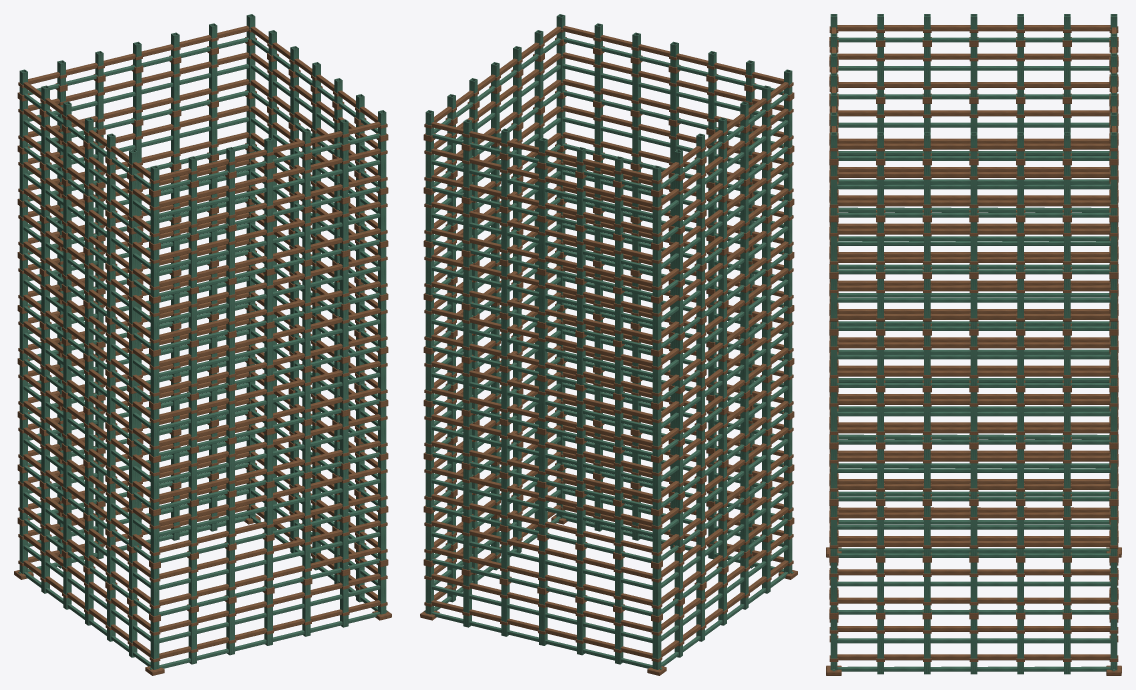
The picture shows the model from 3 angles, left to right: view 1: azimuth 30°, elevation 25°; view 2: azimuth 150°, elevation 25°; view 3: azimuth 270°, elevation 25°; orthographic projection. The views are drawn at different scales.
Bounding box in the file's own units: 2.85 × 5.73 × 2.85.
2 materials, 2 textured.
